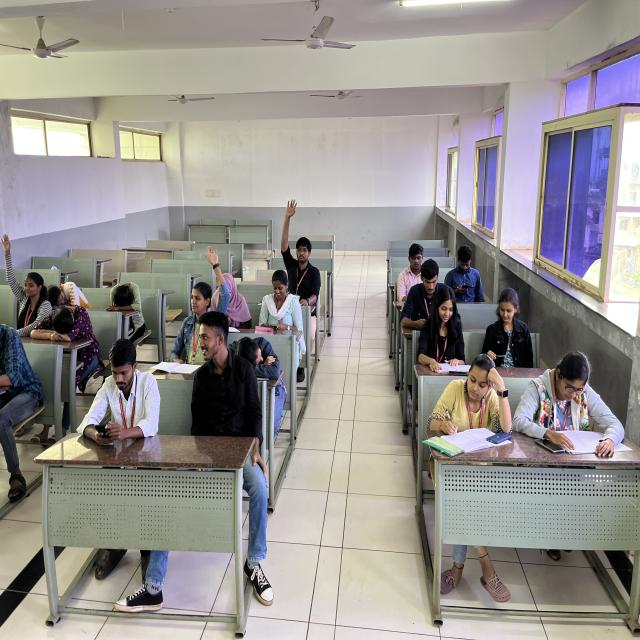Hand Rising: (0, 224, 54, 333), (173, 238, 231, 336), (273, 191, 326, 290)
Reading: (539, 339, 623, 442), (418, 292, 484, 371)
Sleeping: (232, 322, 292, 401), (99, 262, 162, 324), (42, 301, 109, 358), (42, 265, 92, 317)
Using Phone: (61, 337, 169, 468), (252, 266, 303, 335), (404, 258, 450, 333), (445, 235, 489, 303)
Writing: (430, 351, 503, 437)
